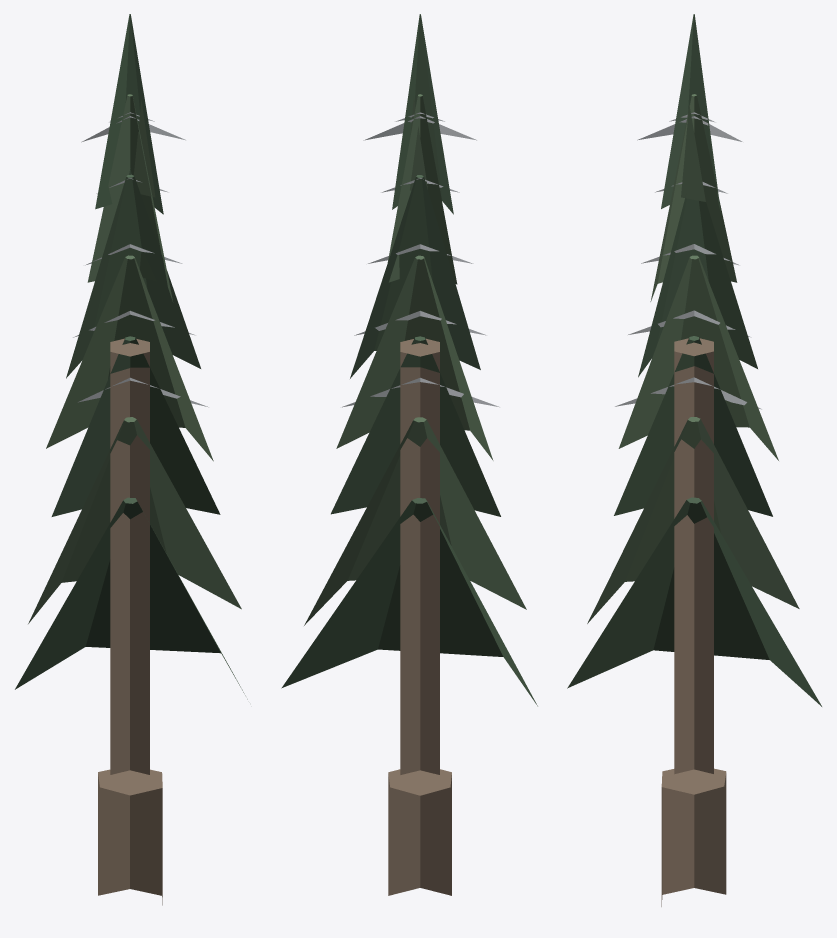
File: shu.yunshan__autumn.glb
The picture shows the model from 3 angles, left to right: view 1: azimuth 30°, elevation 25°; view 2: azimuth 150°, elevation 25°; view 3: azimuth 270°, elevation 25°; orthographic projection.
Parts seen in each view (by area): view 1: shu.yunshan__autumn; view 2: shu.yunshan__autumn; view 3: shu.yunshan__autumn.
Part boxes in pixels (<box>): shu.yunshan__autumn: <box>15,14,247,905</box>; shu.yunshan__autumn: <box>281,14,537,895</box>; shu.yunshan__autumn: <box>567,14,821,906</box>.
Size of the model in its own units: 4.5 by 17.97 by 4.69.
